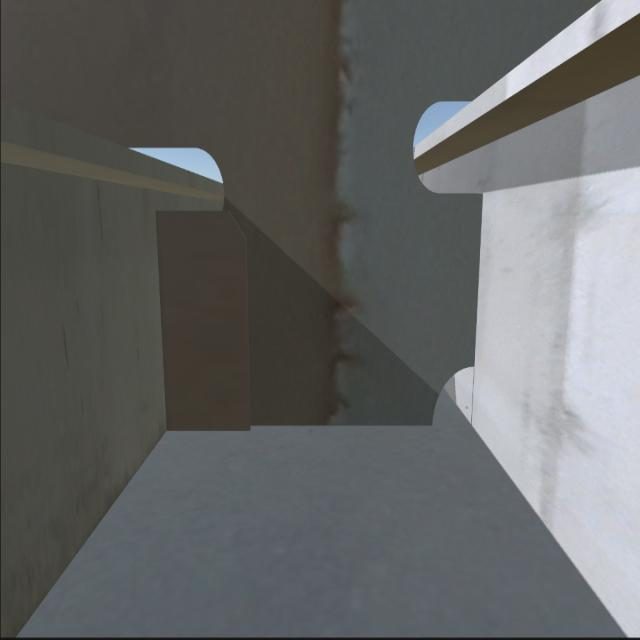fillet_hole: (427, 366, 483, 434)
fillet_yong_jeop_jang: (170, 422, 434, 434)
longi_yong_jeop_jang: (154, 215, 176, 430), (472, 198, 484, 362)
plate_CP03: (162, 210, 245, 433)
